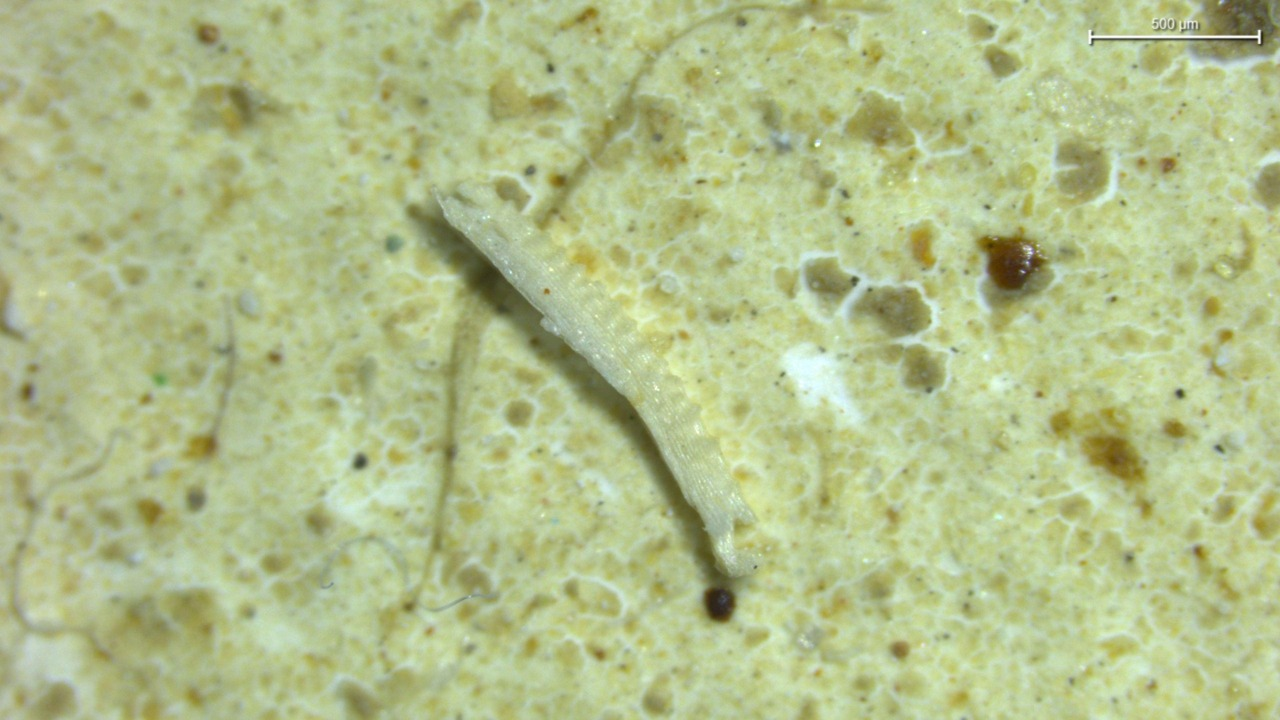microplastic_fragment: (431, 183, 759, 577)
